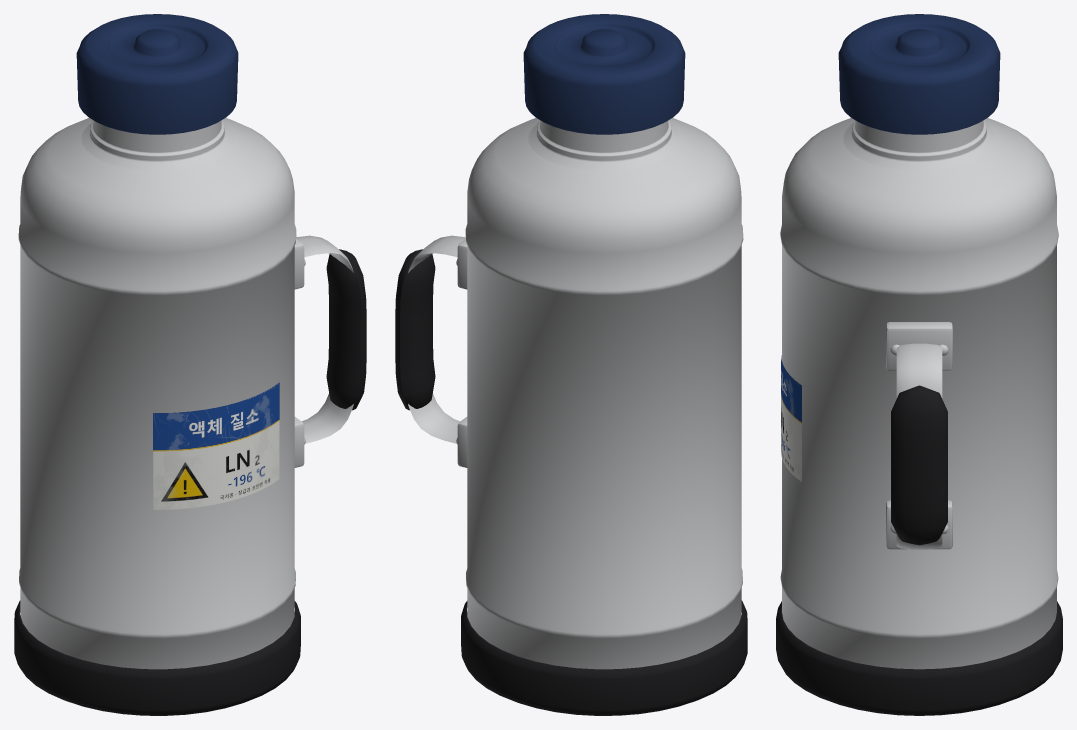
File: dewar.glb
3 renders of one model, left to right at view 1: azimuth 30°, elevation 25°; view 2: azimuth 150°, elevation 25°; view 3: azimuth 270°, elevation 25°, orthographic.
Parts seen in each view (by area): view 1: dewar_body, dewar_rubber, stopper, dewar_label, dewar_handle; view 2: dewar_body, dewar_rubber, stopper, dewar_handle; view 3: dewar_body, dewar_rubber, stopper, dewar_handle, dewar_label.
Boxes of the visible parts, <box> form: dewar_body: <box>18,118,296,669</box>; dewar_rubber: <box>14,249,366,715</box>; stopper: <box>76,14,238,134</box>; dewar_label: <box>153,382,279,509</box>; dewar_handle: <box>294,235,353,467</box>; dewar_body: <box>465,118,743,669</box>; dewar_rubber: <box>395,249,747,715</box>; stopper: <box>523,14,685,134</box>; dewar_handle: <box>408,235,467,467</box>; dewar_body: <box>780,118,1058,669</box>; dewar_rubber: <box>776,385,1062,715</box>; stopper: <box>838,14,1000,134</box>; dewar_handle: <box>886,322,952,549</box>; dewar_label: <box>781,355,801,481</box>.
Bounding box in the file's own units: 0.2476 × 0.45 × 0.188.
Materials: 5 (1 with a texture image).
